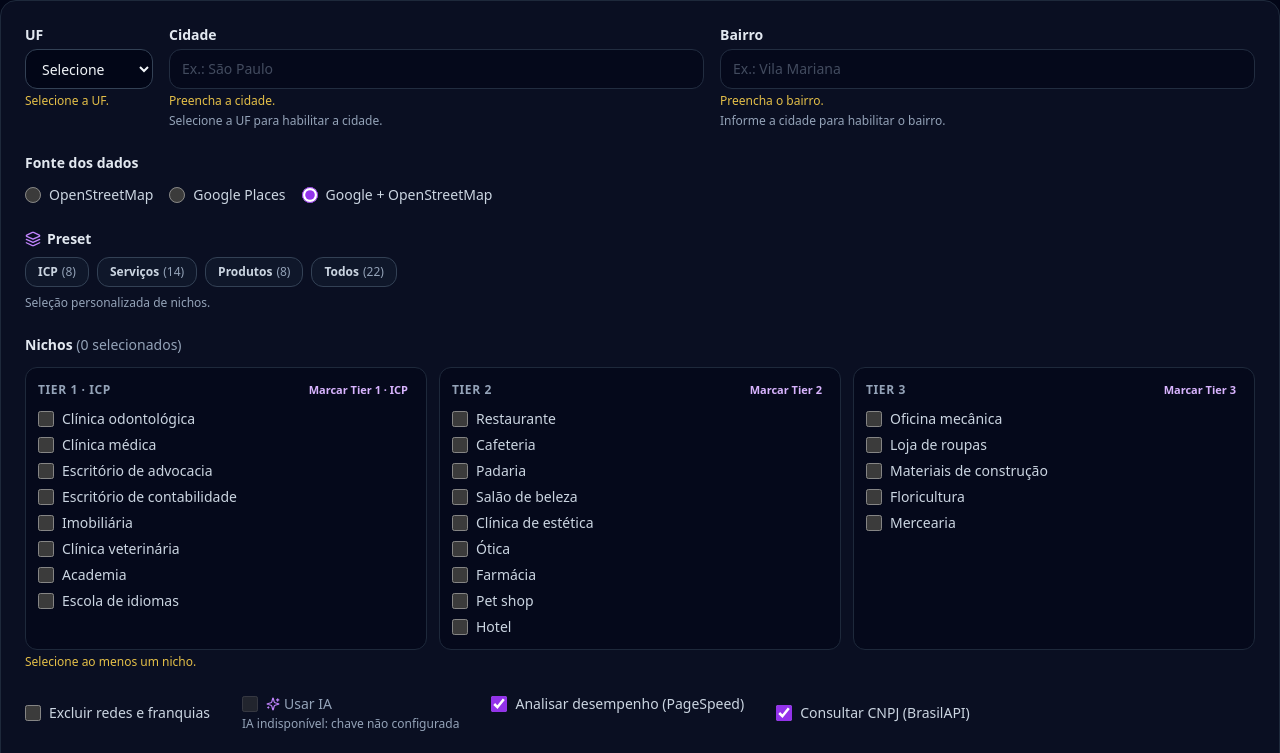
Test: MiningForm — cascata UF → Cidade → Bairro › cada campo só habilita depois do anterior
Expected: the dropdown labelled "Cidade" is disabled, [169, 49, 704, 89]
Expected: the dropdown labelled "Bairro" is disabled, [720, 49, 1255, 89]
Select "SP" in the dropdown labelled "UF" at (89, 69), box [25, 49, 153, 89]
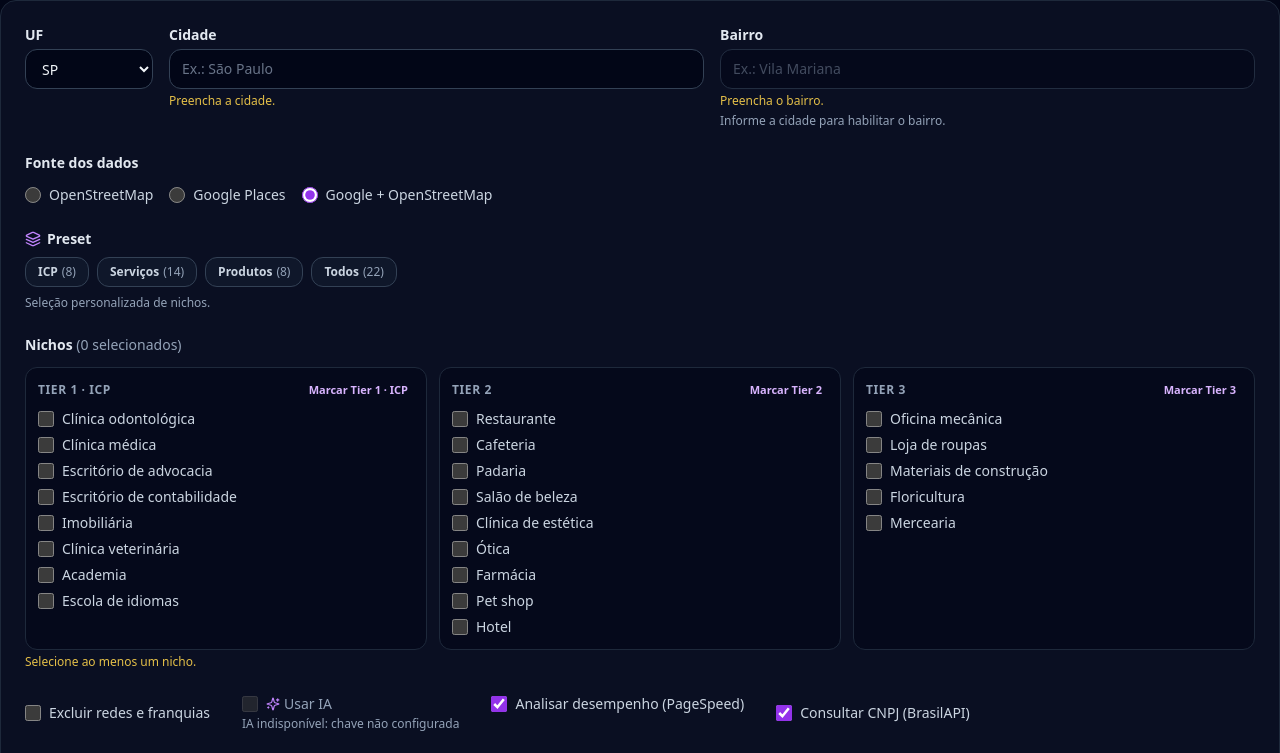
Expected: the dropdown labelled "Bairro" is disabled, [720, 49, 1255, 89]
Result: the dropdown labelled "Cidade" is enabled
Type "Santos" into the dropdown labelled "Cidade" at (436, 69), box [169, 49, 704, 89]
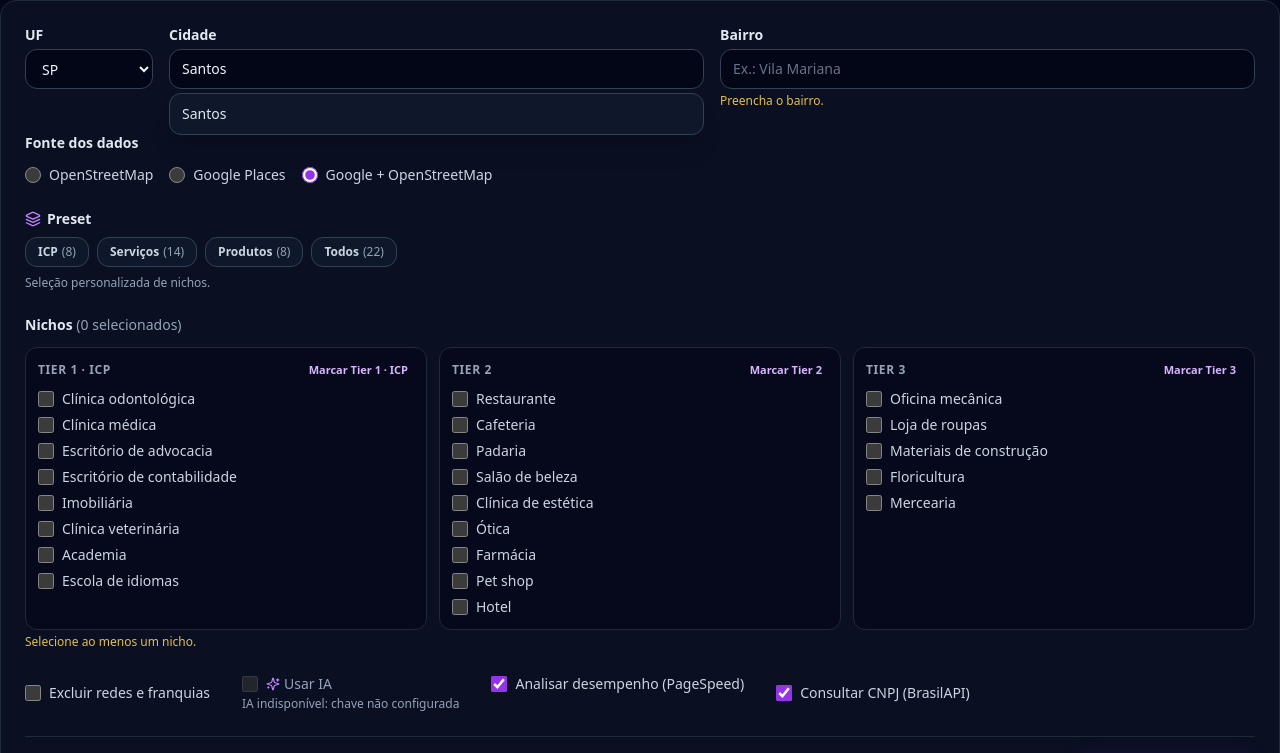
Result: the dropdown labelled "Bairro" is enabled at [720, 49, 1255, 89]
